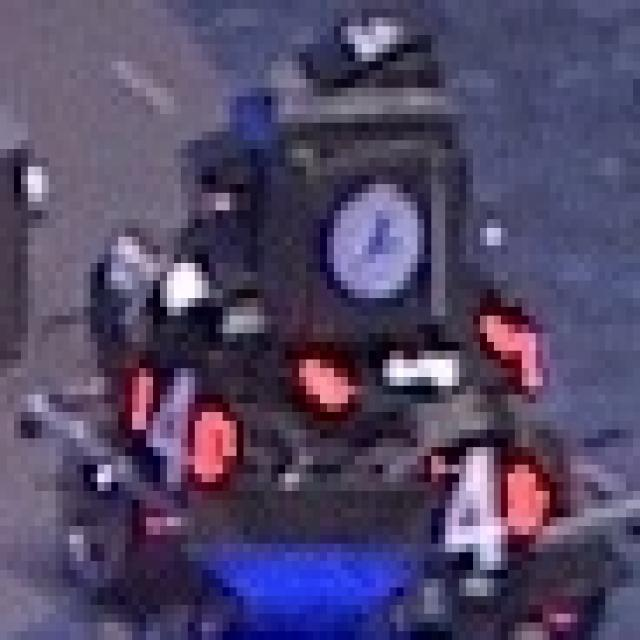R4: (418, 438, 556, 588), (118, 360, 237, 482)
